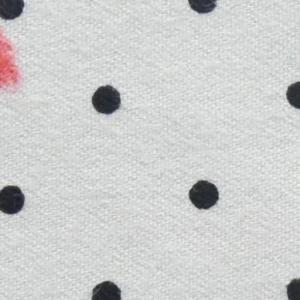Stain: (1, 21, 29, 99)
